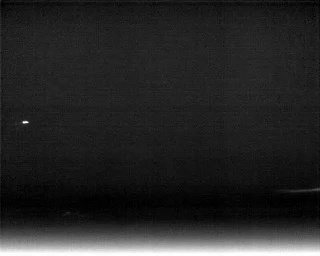AIRPLANE: (20, 118, 31, 127)
